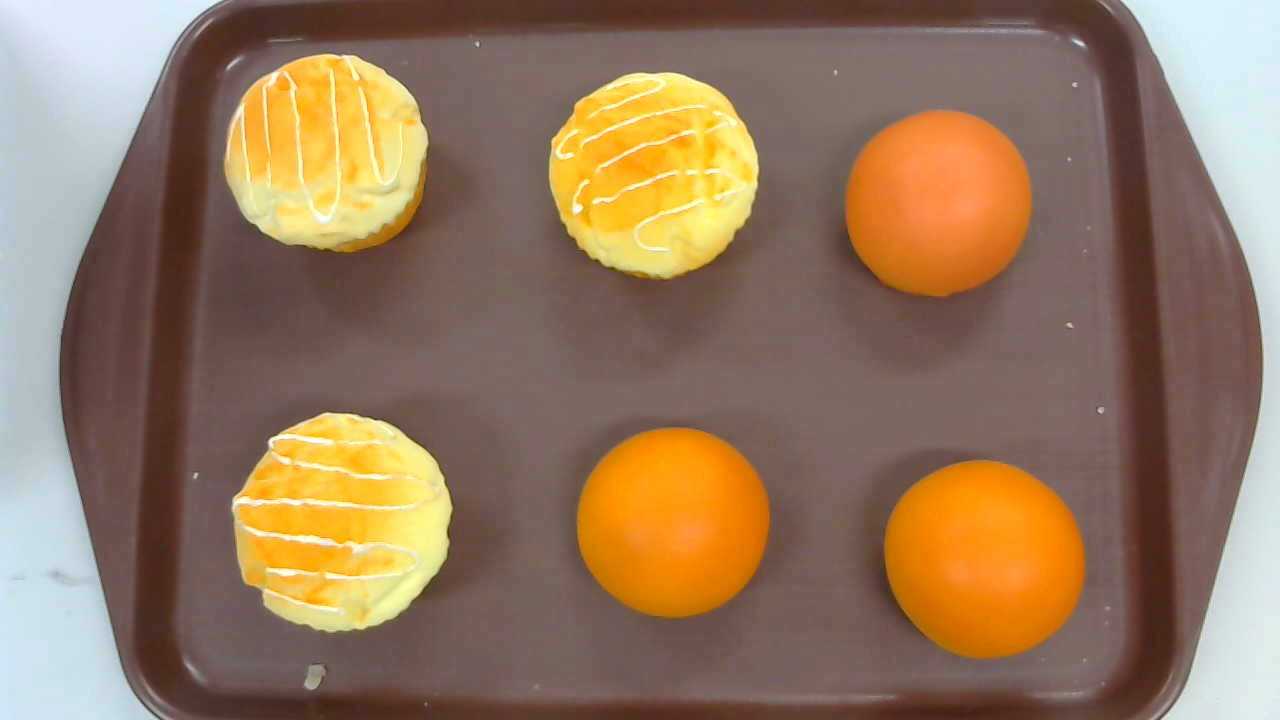bun: (883, 461, 1084, 660), (575, 426, 771, 619), (844, 108, 1031, 297)
cupcake: (232, 410, 453, 634), (549, 71, 760, 282), (223, 53, 428, 254)
